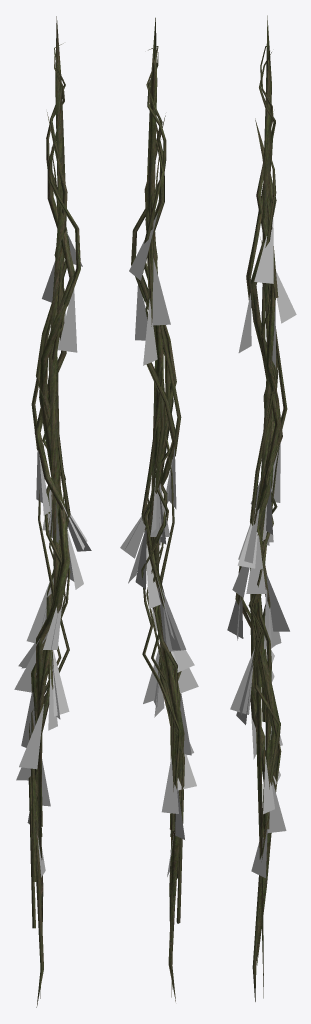
The model's file is Liana1_L4.fbx.
3 renders of one model, left to right at view 1: azimuth 30°, elevation 25°; view 2: azimuth 210°, elevation 25°; view 3: azimuth 270°, elevation 25°, orthographic.
Visible parts, largest first — view 1: polySurface35; view 2: polySurface35; view 3: polySurface35.
Boxes of the visible parts, left/top/right/bottom form: polySurface35: left=14, top=16, right=91, bottom=1007; polySurface35: left=120, top=17, right=198, bottom=1001; polySurface35: left=227, top=15, right=296, bottom=1001.
Bounding box in the file's own units: 99.7 × 1433 × 89.77.
